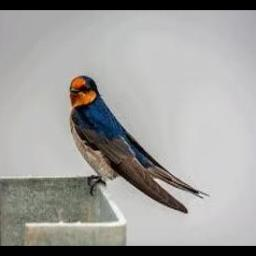Swallow: (70, 76, 210, 214)
